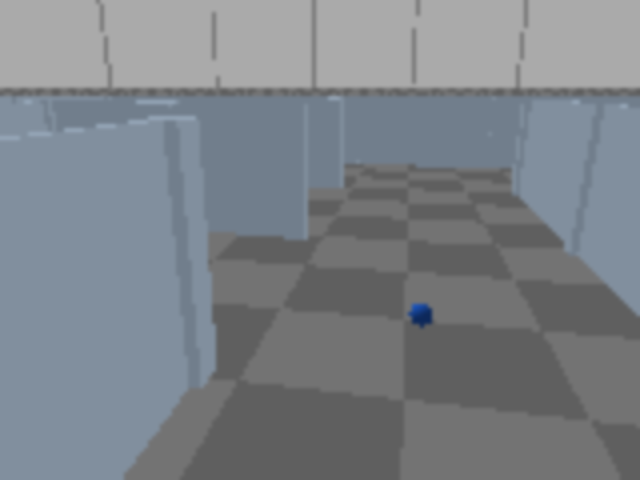puck: (405, 298, 438, 332)
